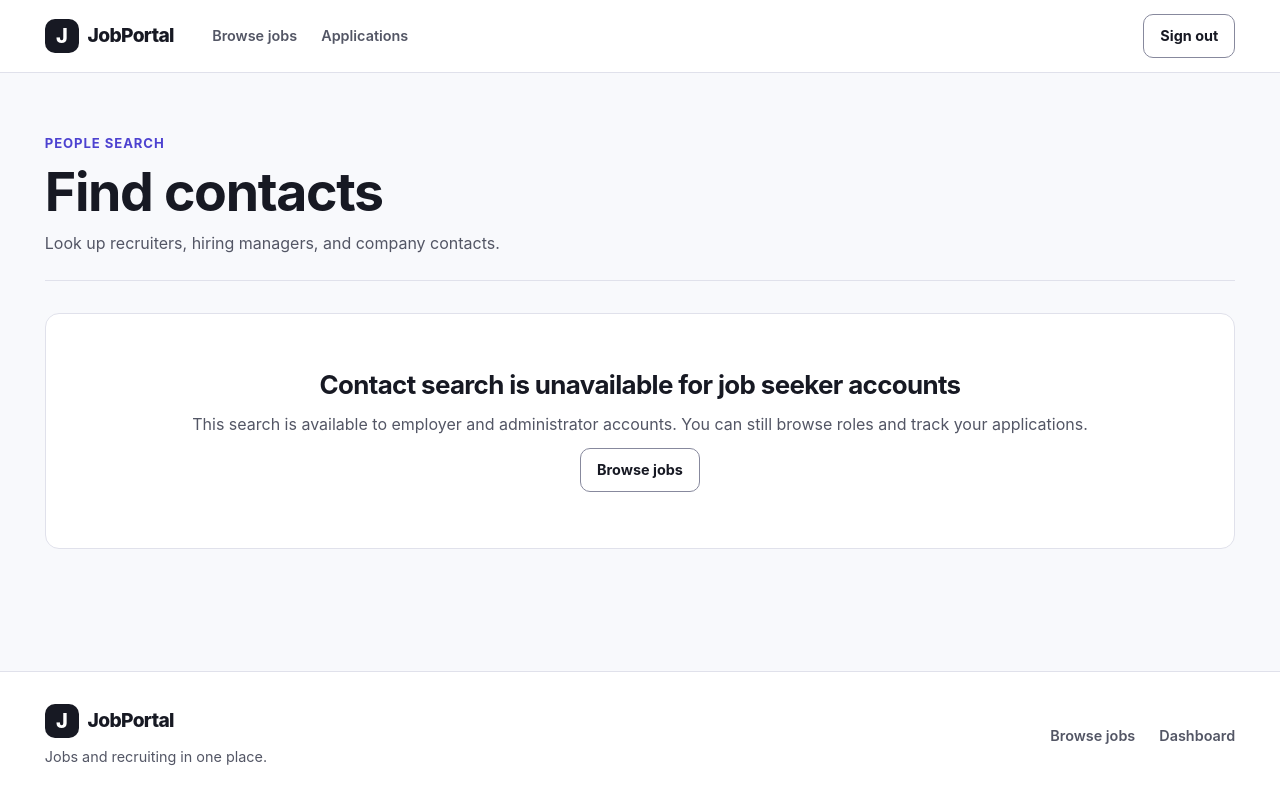
Test: signing out from a protected page returns to the landing page
The width and height of the screenshot is (1280, 800).
Click the button "Sign out" at point(1189, 36), box [1143,14,1235,58]
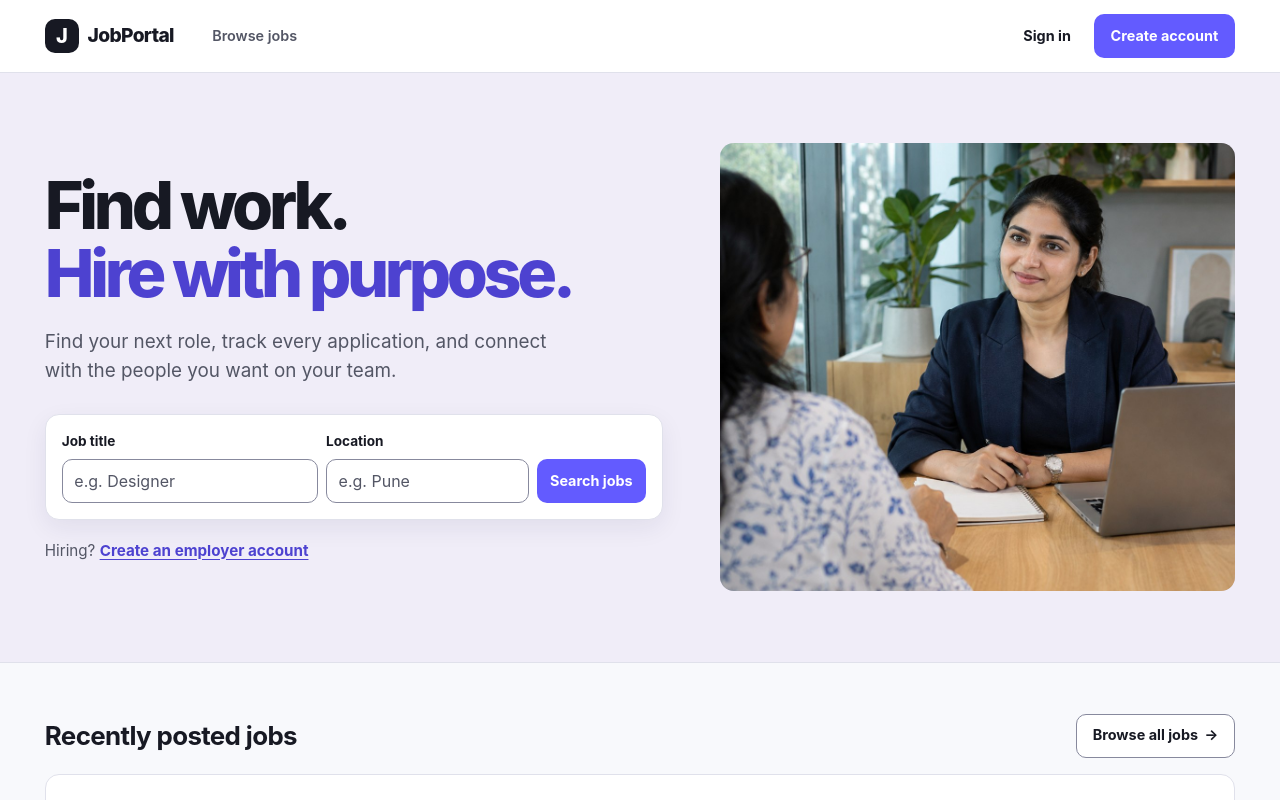
Result: the heading "Find work. Hire with purpose." is shown at [45,172,663,308]
